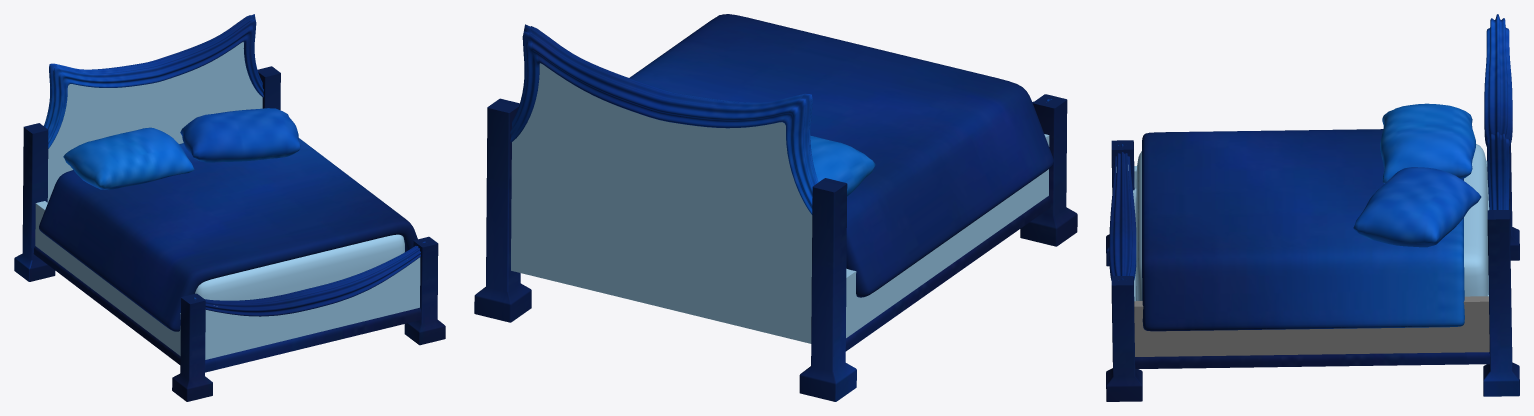
The model's file is cama.obj.
3 renders of one model, left to right at view 1: azimuth 30°, elevation 25°; view 2: azimuth 150°, elevation 25°; view 3: azimuth 270°, elevation 25°, orthographic. The views are drawn at different scales.
Parts seen in each view (by area): view 1: _bed_with_canopy_v1:_bed_with_canopy_v2 polySurface2, _bed_with_canopy_v1:_bed_with_canopy_v2 polySurface5, _bed_with_canopy_v1:_bed_with_canopy_v2 polySurface6, polySurface1 _bed_with_canopy_v1:_bed_with_canopy_v2, _bed_with_canopy_v1:_bed_with_canopy_v2 polySurface20, _bed_with_canopy_v1:_bed_with_canopy_v2 polySurface4, _bed_with_canopy_v1:_bed_with_canopy_v2 polySurface3, _bed_with_canopy_v1:_bed_with_canopy_v2 polySurface7, _bed_with_canopy_v1:_bed_with_canopy_v2 polySurface11, _bed_with_canopy_v1:_bed_with_canopy_v2 polySurface13, _bed_with_canopy_v1:_bed_with_canopy_v2 polySurface10, _bed_with_canopy_v1:_bed_with_canopy_v2 polySurface14 (+3 smaller); view 2: _bed_with_canopy_v1:_bed_with_canopy_v2 polySurface5, _bed_with_canopy_v1:_bed_with_canopy_v2 polySurface2, _bed_with_canopy_v1:_bed_with_canopy_v2 polySurface20, _bed_with_canopy_v1:_bed_with_canopy_v2 polySurface11, _bed_with_canopy_v1:_bed_with_canopy_v2 polySurface16, _bed_with_canopy_v1:_bed_with_canopy_v2 polySurface13, _bed_with_canopy_v1:_bed_with_canopy_v2 polySurface10, _bed_with_canopy_v1:_bed_with_canopy_v2 polySurface12, _bed_with_canopy_v1:_bed_with_canopy_v2 polySurface4; view 3: _bed_with_canopy_v1:_bed_with_canopy_v2 polySurface2, _bed_with_canopy_v1:_bed_with_canopy_v2 polySurface22, _bed_with_canopy_v1:_bed_with_canopy_v2 polySurface3, _bed_with_canopy_v1:_bed_with_canopy_v2 polySurface4, _bed_with_canopy_v1:_bed_with_canopy_v2 polySurface16, _bed_with_canopy_v1:_bed_with_canopy_v2 polySurface20, _bed_with_canopy_v1:_bed_with_canopy_v2 polySurface21, polySurface1 _bed_with_canopy_v1:_bed_with_canopy_v2, _bed_with_canopy_v1:_bed_with_canopy_v2 polySurface15, _bed_with_canopy_v1:_bed_with_canopy_v2 polySurface7, _bed_with_canopy_v1:_bed_with_canopy_v2 polySurface10, _bed_with_canopy_v1:_bed_with_canopy_v2 polySurface11.
Part boxes in pixels (box(x1,y1,x2,y2)): _bed_with_canopy_v1:_bed_with_canopy_v2 polySurface2: box(39, 138, 417, 331); _bed_with_canopy_v1:_bed_with_canopy_v2 polySurface5: box(47, 42, 262, 202); _bed_with_canopy_v1:_bed_with_canopy_v2 polySurface6: box(205, 257, 420, 359); polySurface1 _bed_with_canopy_v1:_bed_with_canopy_v2: box(195, 234, 404, 300); _bed_with_canopy_v1:_bed_with_canopy_v2 polySurface20: box(44, 14, 263, 148); _bed_with_canopy_v1:_bed_with_canopy_v2 polySurface4: box(63, 127, 194, 190); _bed_with_canopy_v1:_bed_with_canopy_v2 polySurface3: box(180, 108, 300, 162); _bed_with_canopy_v1:_bed_with_canopy_v2 polySurface7: box(193, 241, 426, 316); _bed_with_canopy_v1:_bed_with_canopy_v2 polySurface11: box(14, 123, 55, 281); _bed_with_canopy_v1:_bed_with_canopy_v2 polySurface13: box(35, 201, 180, 355); _bed_with_canopy_v1:_bed_with_canopy_v2 polySurface10: box(172, 293, 212, 401); _bed_with_canopy_v1:_bed_with_canopy_v2 polySurface14: box(205, 307, 421, 372); _bed_with_canopy_v1:_bed_with_canopy_v2 polySurface5: box(511, 63, 812, 343); _bed_with_canopy_v1:_bed_with_canopy_v2 polySurface2: box(629, 14, 1053, 297); _bed_with_canopy_v1:_bed_with_canopy_v2 polySurface20: box(510, 24, 818, 214); _bed_with_canopy_v1:_bed_with_canopy_v2 polySurface11: box(799, 178, 856, 401); _bed_with_canopy_v1:_bed_with_canopy_v2 polySurface16: box(474, 98, 531, 322); _bed_with_canopy_v1:_bed_with_canopy_v2 polySurface13: box(846, 134, 1049, 337); _bed_with_canopy_v1:_bed_with_canopy_v2 polySurface10: box(1020, 94, 1077, 246); _bed_with_canopy_v1:_bed_with_canopy_v2 polySurface12: box(845, 196, 1050, 351); _bed_with_canopy_v1:_bed_with_canopy_v2 polySurface4: box(810, 135, 875, 196); _bed_with_canopy_v1:_bed_with_canopy_v2 polySurface2: box(1142, 129, 1464, 331); _bed_with_canopy_v1:_bed_with_canopy_v2 polySurface22: box(1134, 296, 1489, 356); _bed_with_canopy_v1:_bed_with_canopy_v2 polySurface3: box(1353, 167, 1481, 247); _bed_with_canopy_v1:_bed_with_canopy_v2 polySurface4: box(1380, 103, 1475, 183); _bed_with_canopy_v1:_bed_with_canopy_v2 polySurface16: box(1483, 210, 1519, 396); _bed_with_canopy_v1:_bed_with_canopy_v2 polySurface20: box(1484, 14, 1512, 209); _bed_with_canopy_v1:_bed_with_canopy_v2 polySurface21: box(1135, 352, 1489, 368); polySurface1 _bed_with_canopy_v1:_bed_with_canopy_v2: box(1133, 144, 1489, 301); _bed_with_canopy_v1:_bed_with_canopy_v2 polySurface15: box(1106, 276, 1142, 401); _bed_with_canopy_v1:_bed_with_canopy_v2 polySurface7: box(1109, 144, 1136, 280); _bed_with_canopy_v1:_bed_with_canopy_v2 polySurface10: box(1106, 140, 1134, 266); _bed_with_canopy_v1:_bed_with_canopy_v2 polySurface11: box(1509, 144, 1519, 260).
Size of the model in its own units: 2.76 by 2.15 by 3.19.
4 materials, 3 textured.
